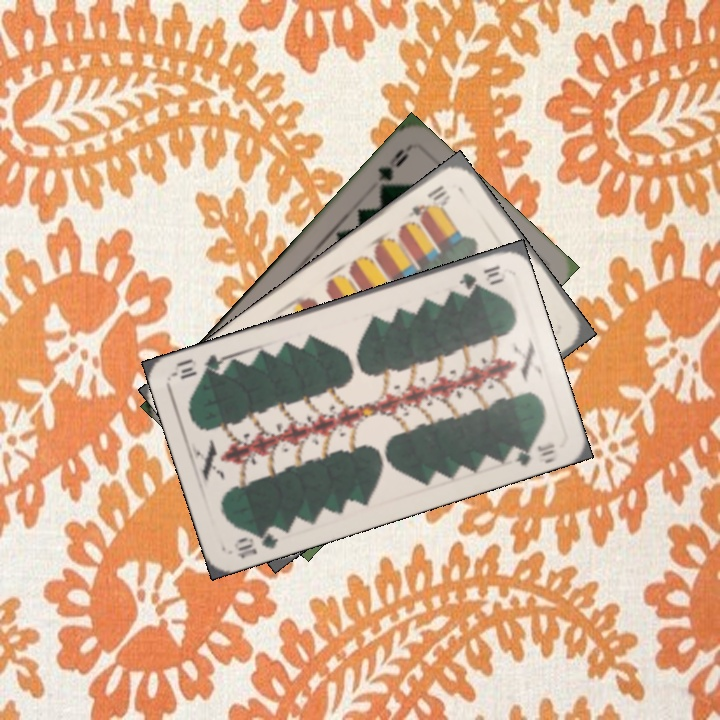E10: (404, 180, 450, 222)
G10: (233, 522, 285, 561), (455, 261, 506, 293)
G9: (373, 144, 412, 195)
